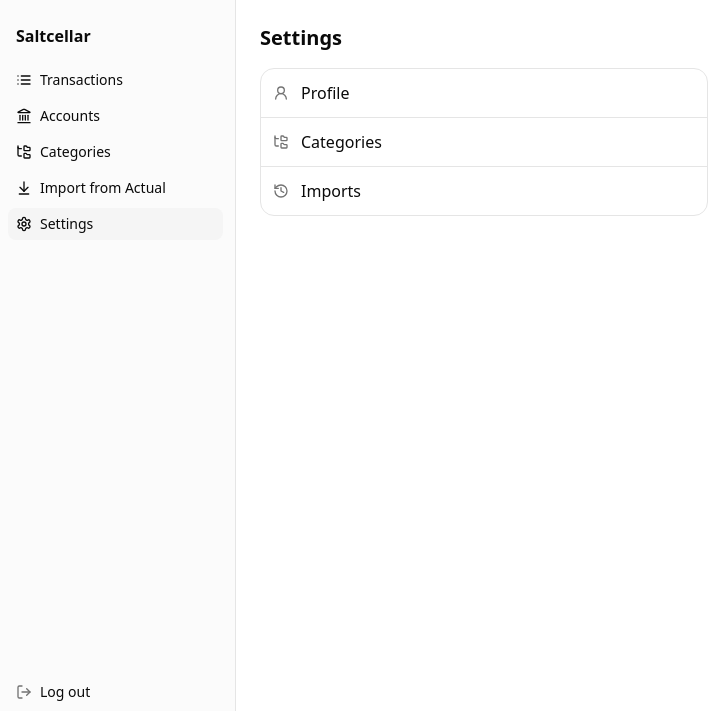
Settings › lists Profile, Categories and Imports, and opens Profile
Click the link "Profile" at (311, 93), box 273,82 -> 349,104
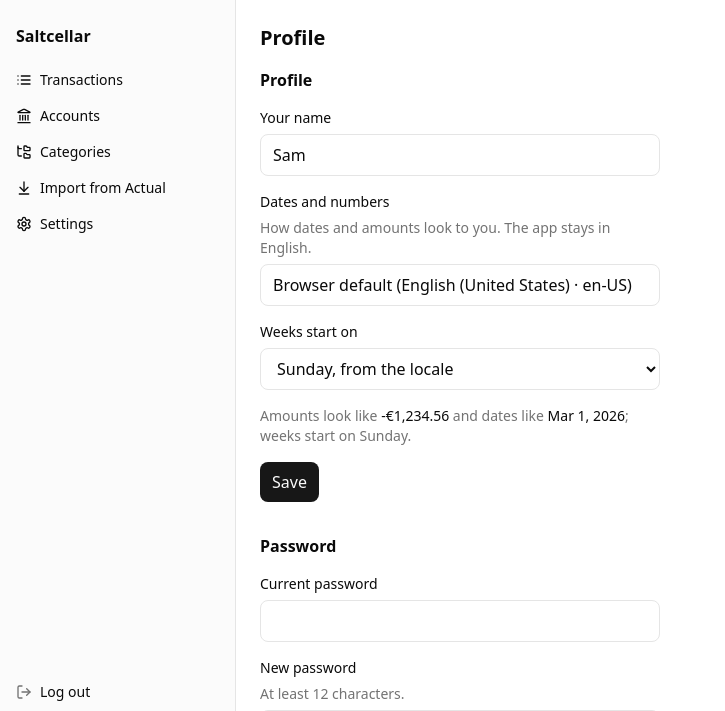
Now the 1st heading "Profile" is shown, box 260,24 -> 325,52
